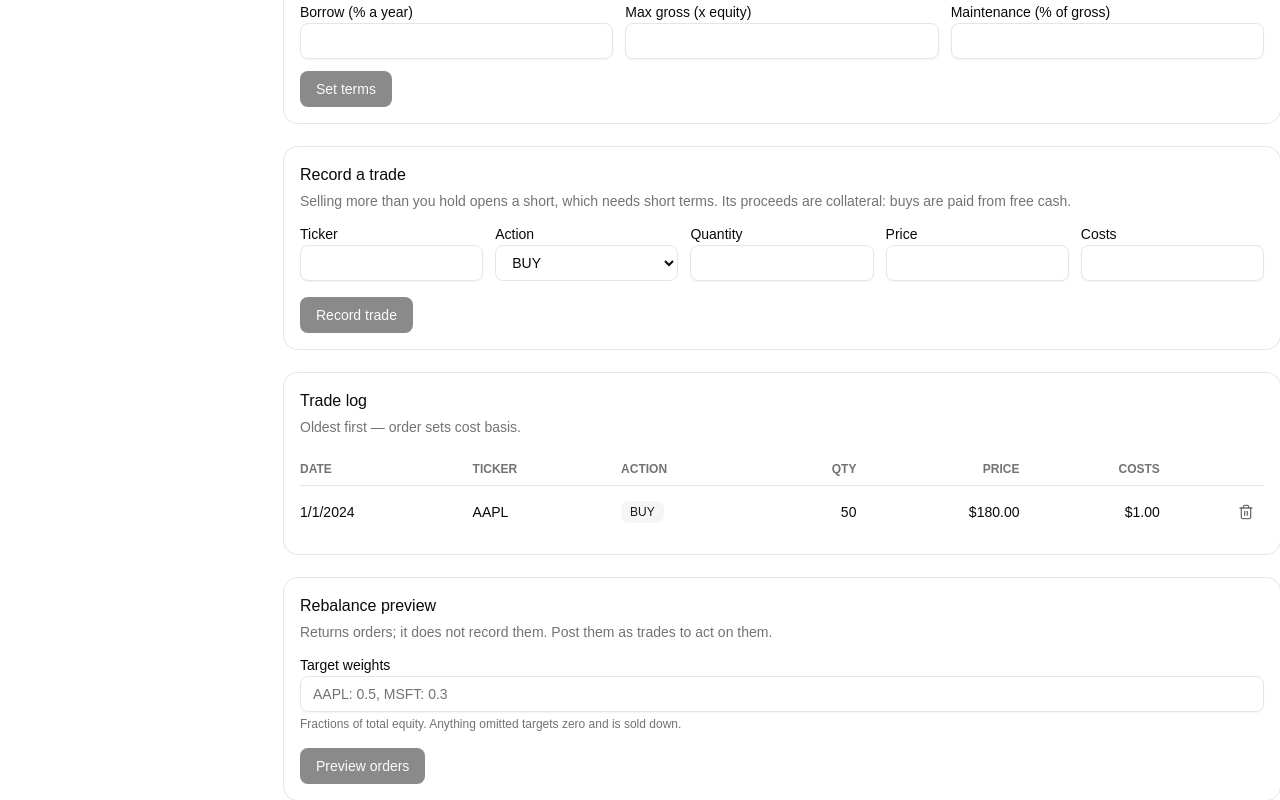
PortfoliosPage — rebalancing › parses weights and shows the preview without recording anything
(page scrolled)
In the field labelled "Target weights": (782, 694) [300, 676, 1264, 712], type "aapl: 0.5, msft: 0.3"
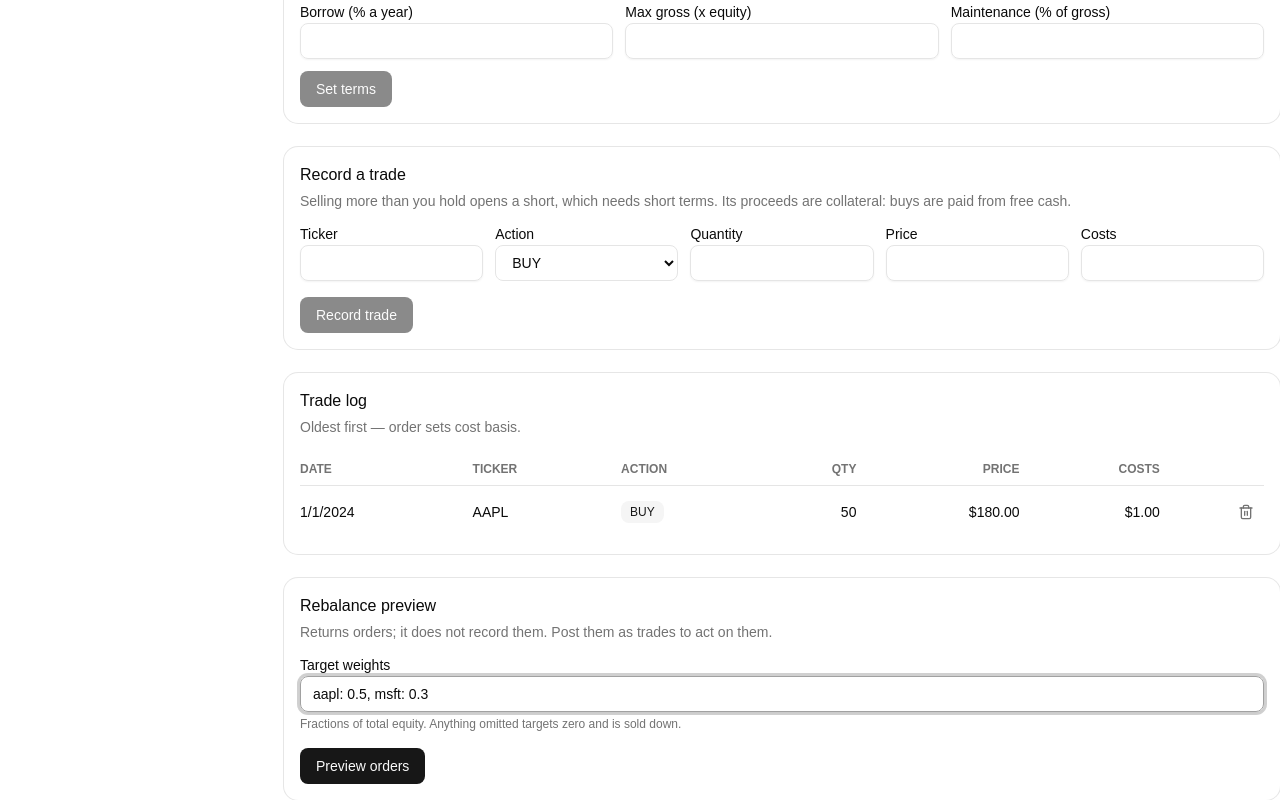
Click the button "Preview orders": click(363, 766) [300, 748, 425, 784]
(page scrolled)
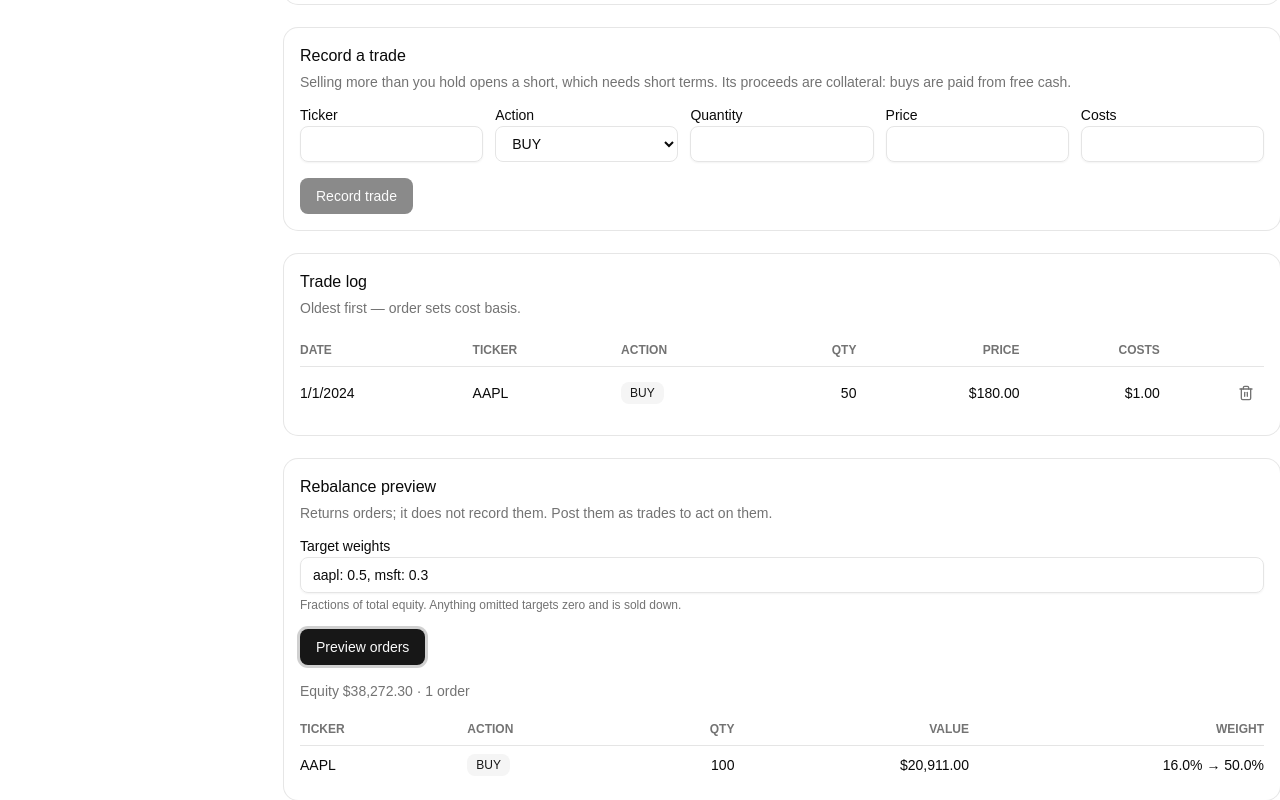
Now the text "16.0% → 50.0%" is shown, box [985, 746, 1264, 784]
